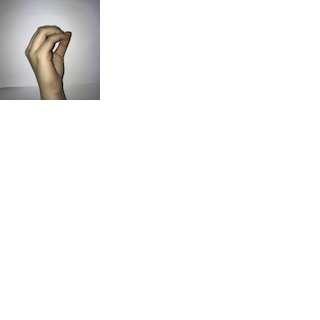rock: (21, 16, 75, 97)
